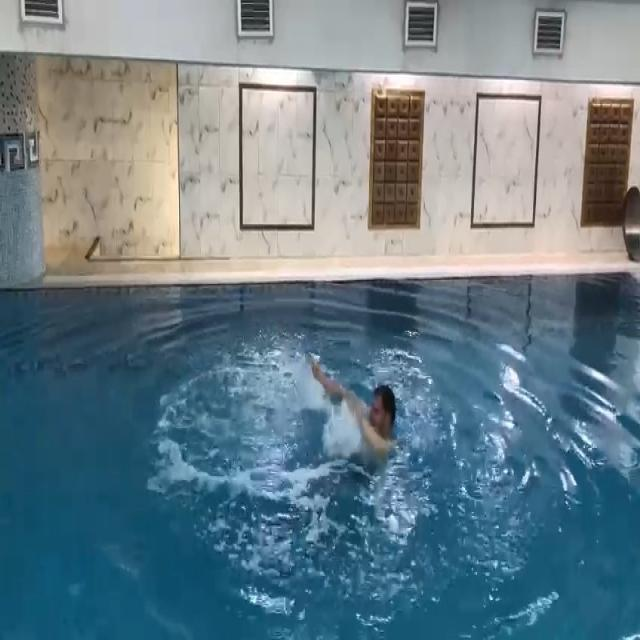Drowning: (308, 361, 404, 475)
